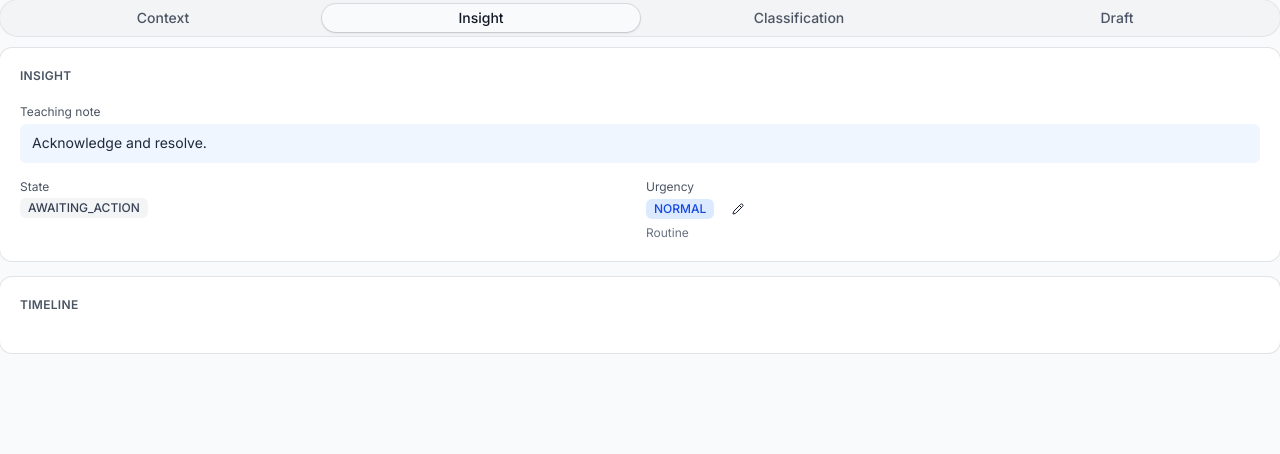
ThreadTriageSidebar feedback buttons › shows Timeline under Insight in the same view when thread context is on
The image size is (1280, 454).
Expected: the tab "Insight" is shown, [322,4,640,32]
Expected: the tab "Classification" is shown, [640,4,958,32]
Click the tab "Context" at (163, 18), box [4,4,322,32]
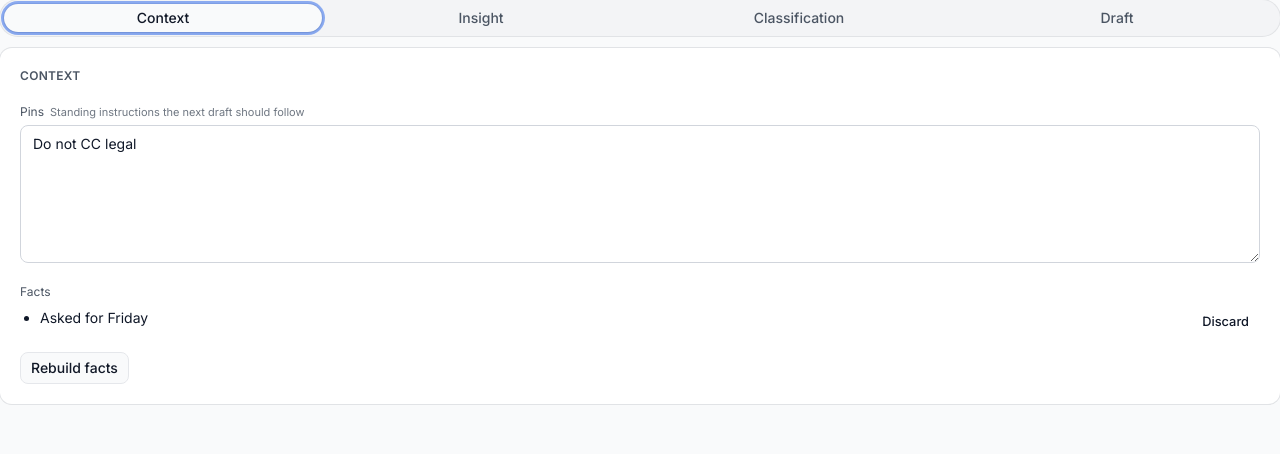
Expected: the text "Audit log" is not shown
Result: the text "Acknowledge and resolve." is gone
Result: the text "Timeline" is gone
Click the tab "Insight" at (481, 18), box [322,4,640,32]
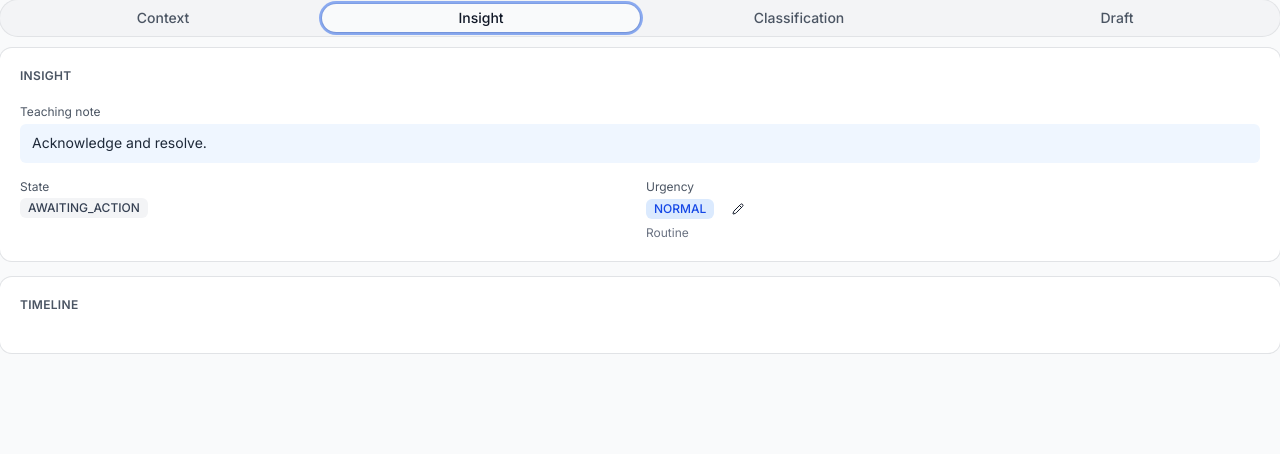
Expected: the text "Audit log" is not shown
Result: the text "Acknowledge and resolve." is shown at [32,134,207,151]
Result: the text "Timeline" is shown at [20,297,78,312]
Click the tab "Classification" at (799, 18), box [640,4,958,32]
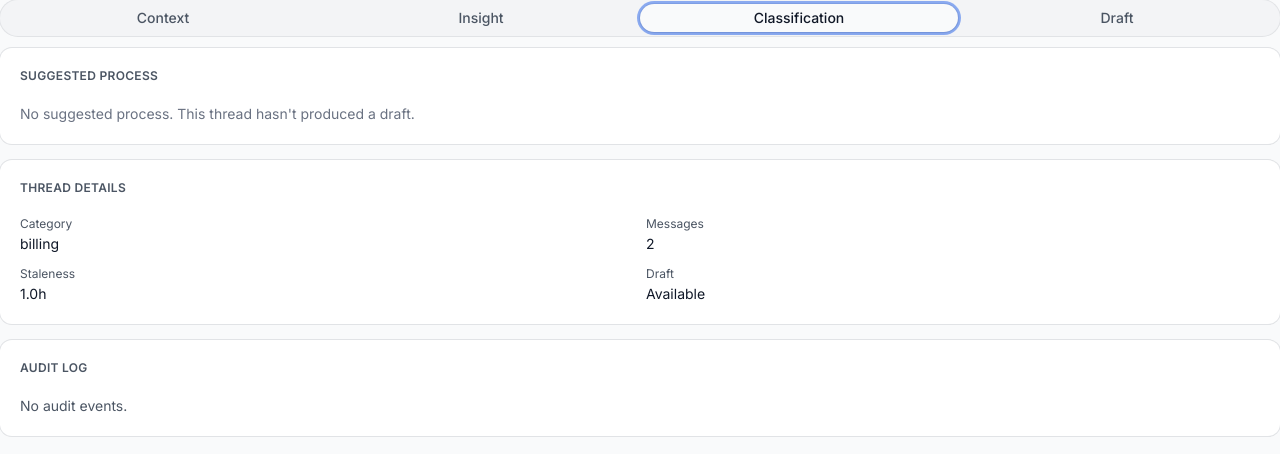
Result: the text "Audit log" is shown at [20,360,88,375]
